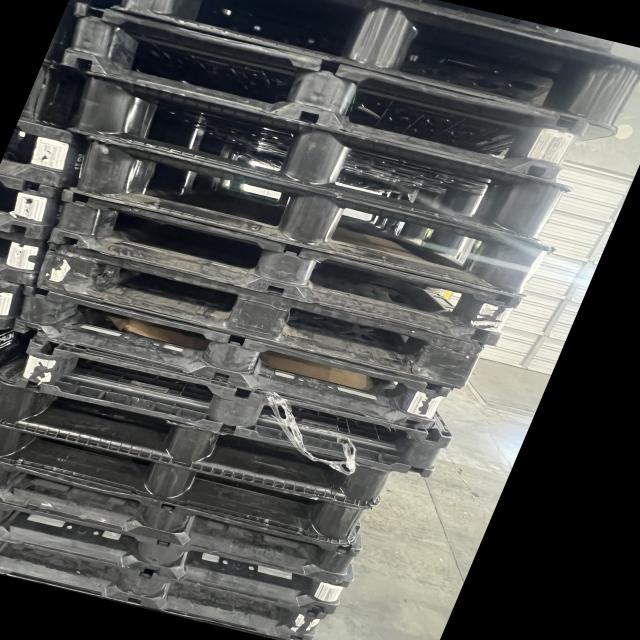igps: (53, 0, 594, 193), (59, 57, 581, 251), (60, 113, 560, 306), (43, 183, 532, 351), (98, 0, 640, 147), (31, 234, 493, 399), (4, 278, 457, 440), (7, 328, 457, 482), (0, 362, 397, 514), (0, 420, 380, 560), (0, 449, 370, 591), (0, 494, 359, 620), (0, 530, 333, 639)
